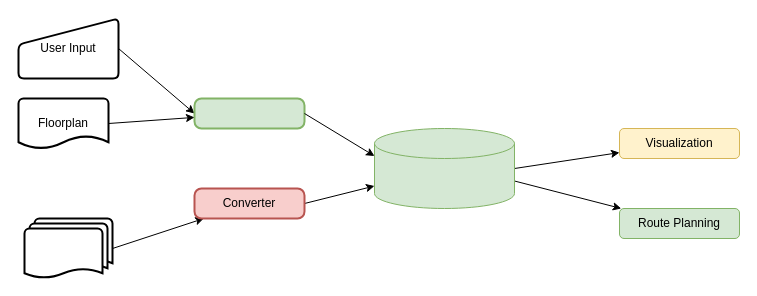
The diagram is 757 pixels wide and 296 high, and some of its shapes have lost their labels. The centre of each missing label's shape, as x and y in pixels:
CAD Files: [68,248]
GUI: [249,113]
Warehouse Representation: [444,168]
